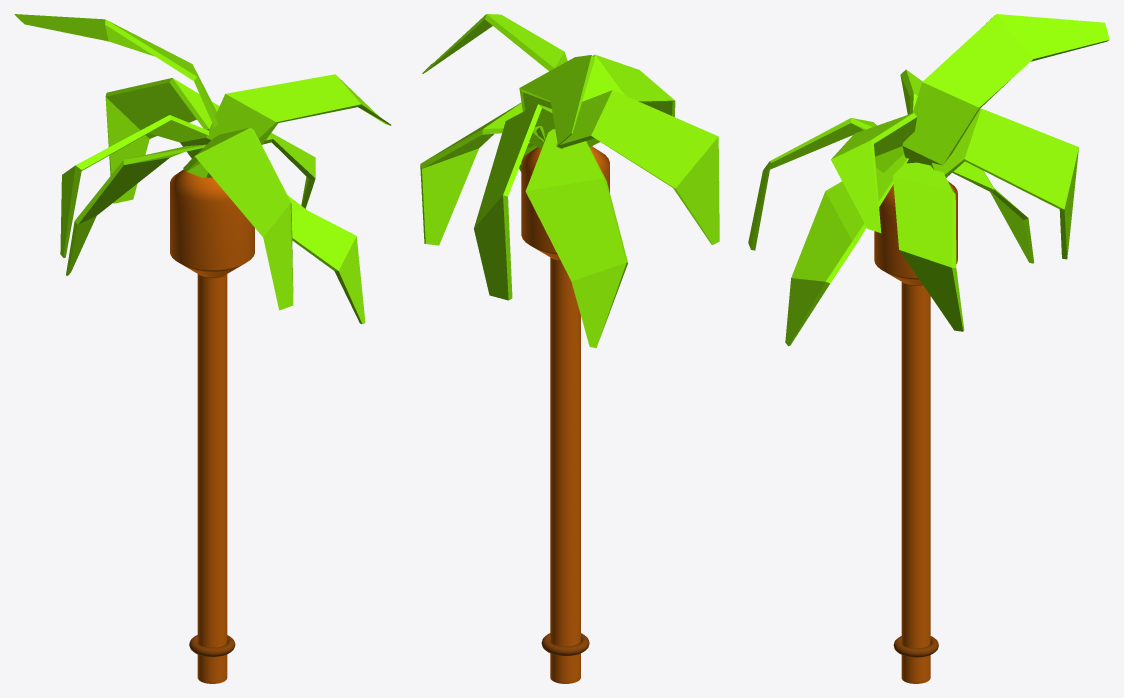
The model's file is Palmera.glb.
3 renders of one model, left to right at view 1: azimuth 30°, elevation 25°; view 2: azimuth 150°, elevation 25°; view 3: azimuth 270°, elevation 25°, orthographic. The views are drawn at different scales.
Parts seen in each view (by area): view 1: Cylinder, Plane, Plane.005, Plane.002, Plane.001, Plane.004, Plane.003, Plane.007, Plane.006; view 2: Cylinder, Plane.007, Plane.003, Plane.002, Plane.006, Plane.004, Plane, Plane.005, Torus; view 3: Cylinder, Plane.004, Plane.002, Plane.006, Plane.001, Plane.005, Plane, Plane.007, Plane.003.
Boxes of the visible parts, x1,y1,x2,y2 form: Cylinder: [170, 169, 254, 683]; Plane: [183, 127, 293, 310]; Plane.005: [205, 74, 391, 144]; Plane.002: [105, 78, 219, 203]; Plane.001: [206, 172, 365, 323]; Plane.004: [14, 14, 218, 127]; Plane.003: [60, 115, 208, 257]; Plane.007: [66, 144, 206, 275]; Plane.006: [263, 133, 315, 208]; Cylinder: [521, 146, 609, 683]; Plane.007: [525, 129, 627, 347]; Plane.003: [556, 90, 719, 244]; Plane.002: [474, 104, 554, 300]; Plane.006: [420, 102, 545, 245]; Plane.004: [519, 55, 594, 145]; Plane: [582, 54, 675, 146]; Plane.005: [422, 14, 567, 73]; Torus: [541, 633, 589, 655]; Cylinder: [874, 181, 957, 683]; Plane.004: [902, 14, 1109, 165]; Plane.002: [930, 108, 1078, 259]; Plane.006: [893, 162, 964, 331]; Plane.001: [785, 153, 908, 346]; Plane.005: [831, 113, 917, 232]; Plane: [748, 118, 876, 250]; Plane.007: [952, 161, 1034, 263]; Plane.003: [900, 69, 922, 114].
Size of the model in its own units: 2.24 by 4.52 by 2.34.
